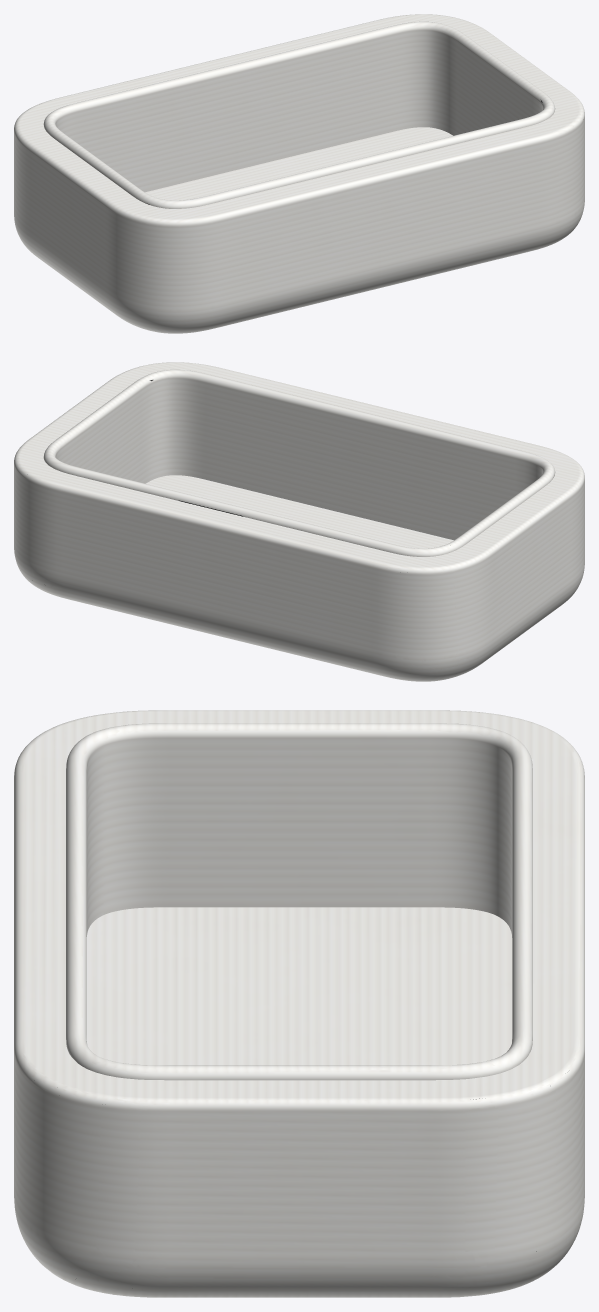
The model's file is incense-box-no-lid.glb.
3 renders of one model, top to bottom at view 1: azimuth 30°, elevation 25°; view 2: azimuth 150°, elevation 25°; view 3: azimuth 270°, elevation 25°, orthographic. The views are drawn at different scales.
Bounding box in the file's own units: 0.09 × 0.024 × 0.055.
1 material, 1 textured.
